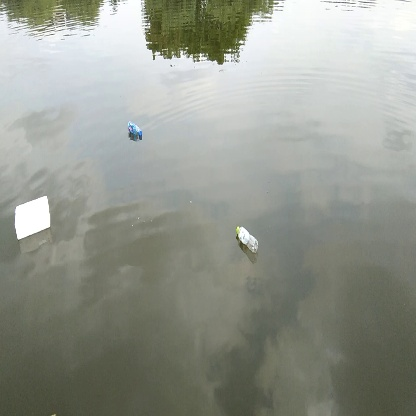bottle: (230, 222, 262, 254), (123, 118, 148, 141)
plastic-garbage: (12, 195, 59, 242)
